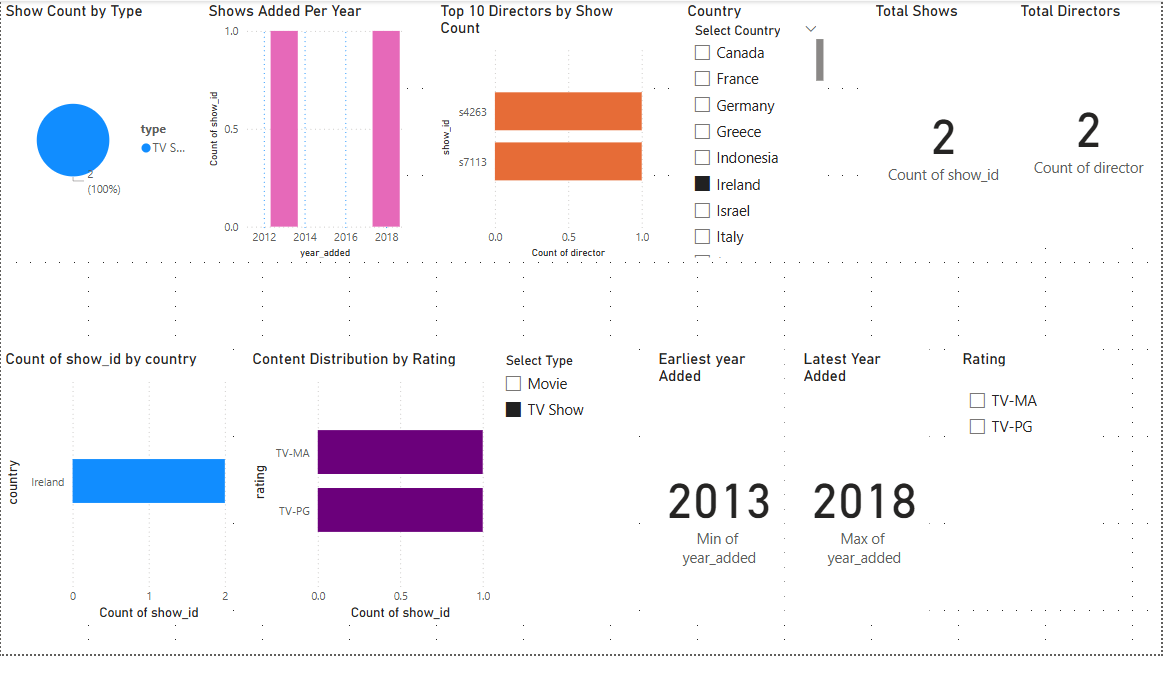

The page's visual inventory and layout, read from the dashboard file:
{"tool":"powerbi","page":{"name":"Page 1","canvas":[1280,720],"ordinal":0},"visuals":[{"type":"pieChart","fields":{"Category":["netflix_titles.type"],"Y":["CountNonNull(netflix_titles.show_id)"]},"box":[0,0,224,288],"z":0},{"type":"clusteredColumnChart","fields":{"Category":["netflix_titles.year_added"],"Y":["CountNonNull(netflix_titles.show_id)"]},"box":[272,0,272,288],"z":1000},{"type":"barChart","fields":{"Category":["netflix_titles.country"],"Y":["CountNonNull(netflix_titles.show_id)"]},"box":[0,384,384,272],"z":2000},{"type":"barChart","fields":{"Category":["netflix_titles.show_id"],"Y":["CountNonNull(netflix_titles.director)"]},"box":[560,0,272,288],"z":3000},{"type":"clusteredBarChart","fields":{"Category":["netflix_titles.rating"],"Y":["CountNonNull(netflix_titles.show_id)"]},"box":[560,384,272,272],"z":4000}]}

Visuals, with their boxes in screenshot pixels (x1, y1, x2, y2), scaled from the page's 1280x720 canvas onto the 1163x674 screenshot:
pieChart - netflix_titles.type x CountNonNull(netflix_titles.show_id): crop(0, 0, 204, 270)
clusteredColumnChart - netflix_titles.year_added x CountNonNull(netflix_titles.show_id): crop(247, 0, 494, 270)
barChart - netflix_titles.country x CountNonNull(netflix_titles.show_id): crop(0, 359, 349, 614)
barChart - netflix_titles.show_id x CountNonNull(netflix_titles.director): crop(509, 0, 756, 270)
clusteredBarChart - netflix_titles.rating x CountNonNull(netflix_titles.show_id): crop(509, 359, 756, 614)
